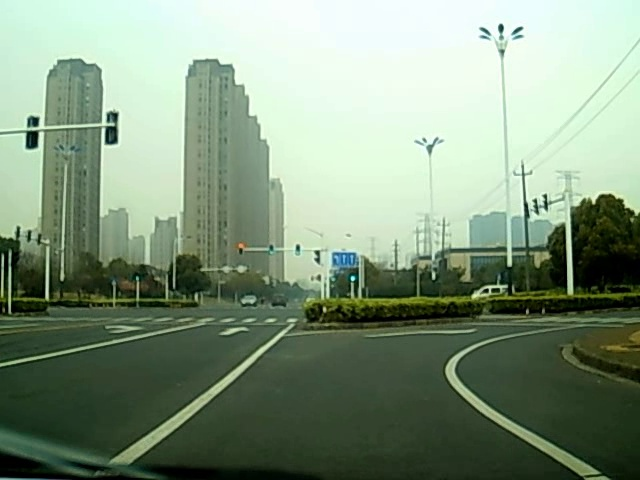Traffic_Light_go: (294, 245, 302, 257), (350, 268, 356, 284), (269, 244, 276, 255)
Traffic_Light_stop: (237, 241, 245, 255)
